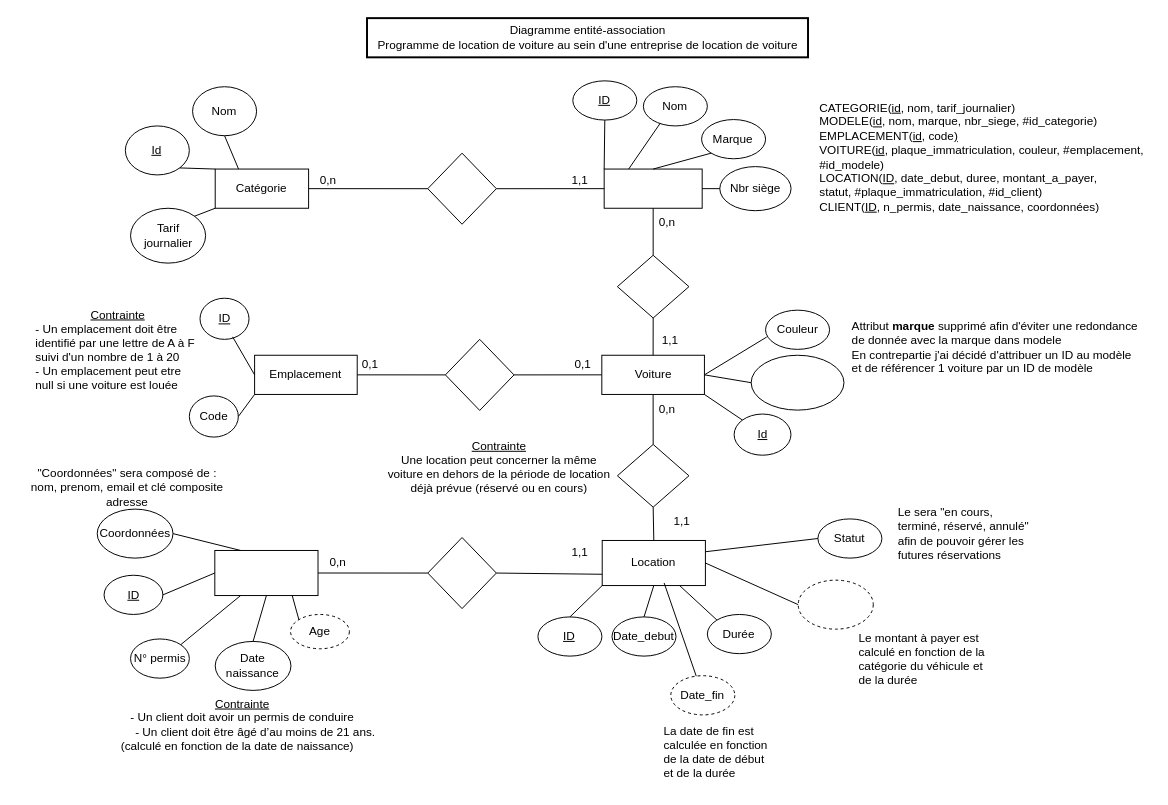
Image size: 1168x805. Some labels were removed from this diagram. Each missing label, with the centre of its shape:
"Appartenir" belongs at point 461,188.
"Client" belongs at point 266,572.
"Concerner" belongs at point 652,475.
"Effectuer" belongs at point 461,573.
"Modèle" belongs at point 652,188.
"Montant à payer" belongs at point 835,604.
"Plaque immatriculation" belongs at point 797,382.
"Posseder" belongs at point 652,286.
"Se situer" belongs at point 479,374.
